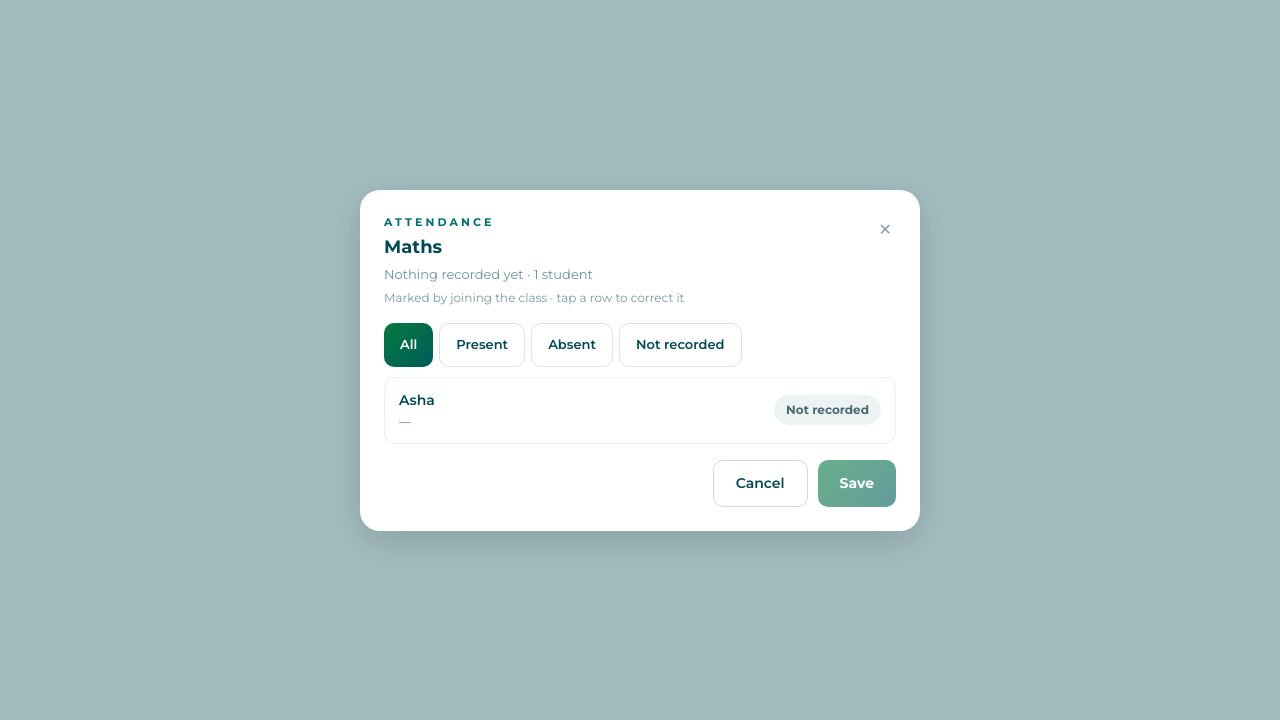
Test: a mis-tap is always recoverable › shows what the row was, so a change can be reviewed before saving
This screenshot has width=1280, height=720.
Step 1. Click the text "Asha" → [417, 400], box [399,390,435,408]
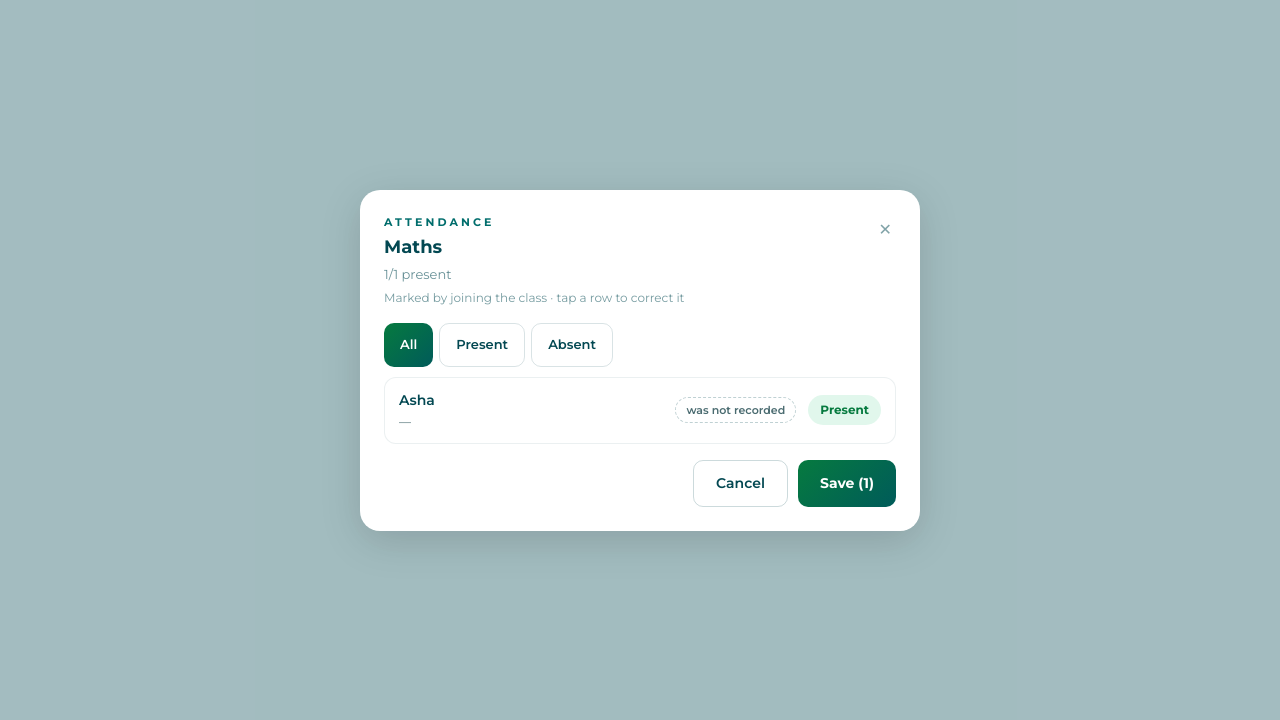
Check: the button "Asha — was not recorded Present" is shown, box [384,376,896,444]
